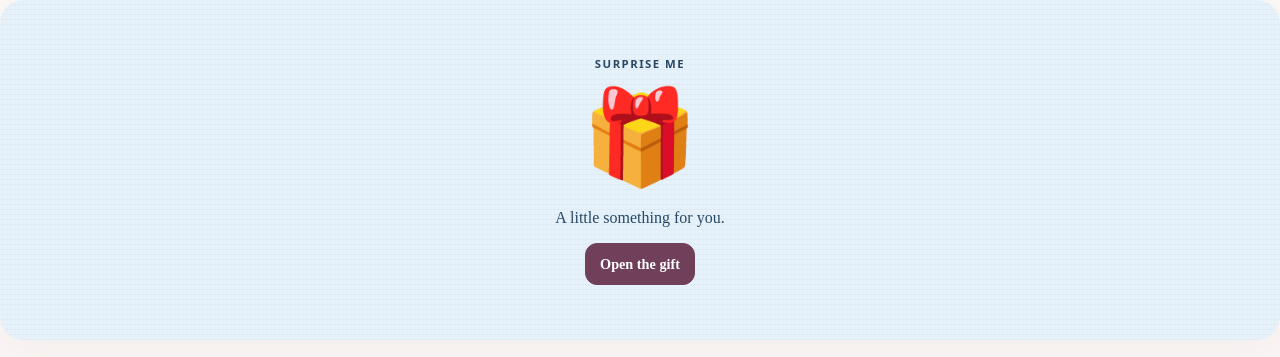
Test: renders the real saved greeting on reveal and can replay
This screenshot has width=1280, height=357.
Expected: the text "Happy birthday!" is not shown
Click the button "Open the gift". click: (640, 264)
box: [586,243,695,285]
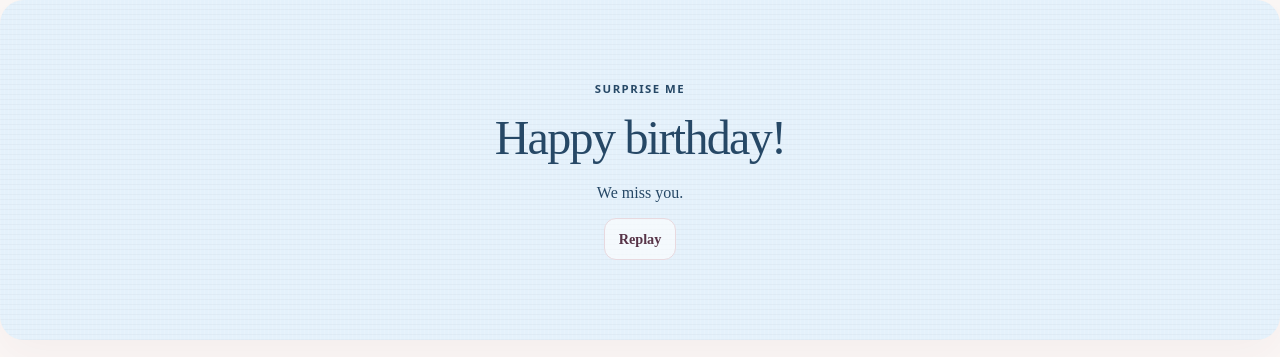
Expected: the heading "Happy birthday!" is shown, [495,110,785,167]
Click the button "Replay". click: (640, 239)
box: [604,218,676,260]
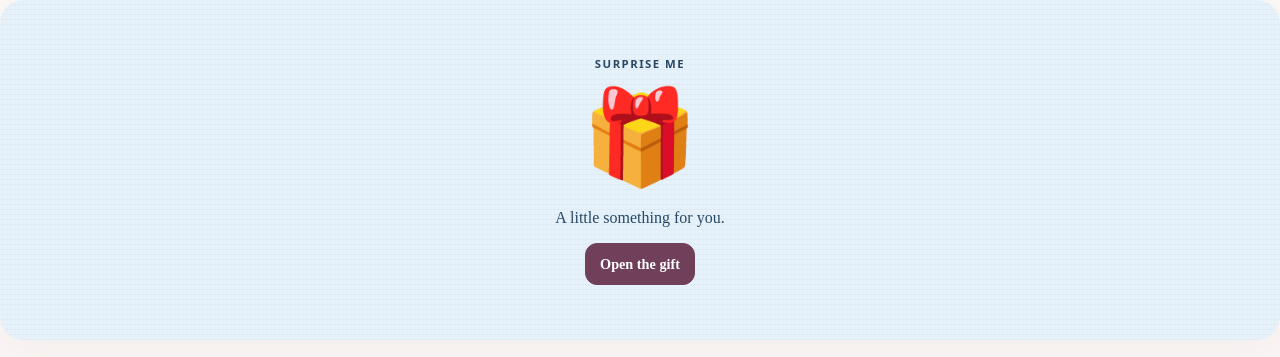
Expected: the heading "Happy birthday!" is gone
